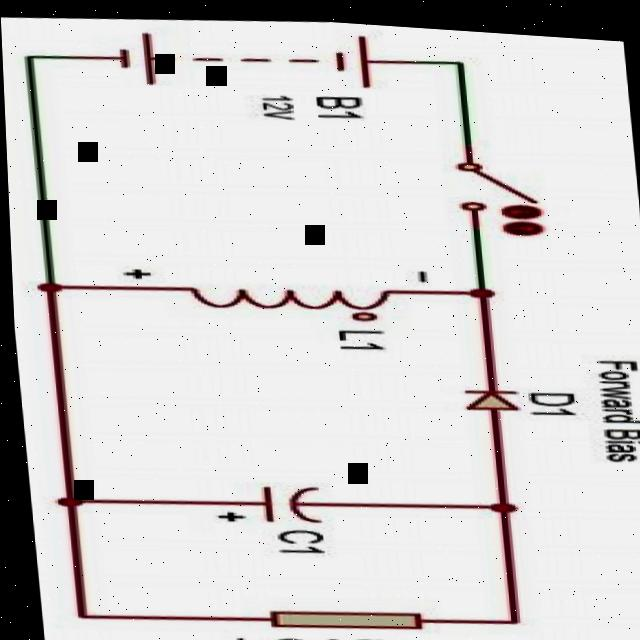capacitor: (237, 470, 327, 534)
diode: (434, 364, 534, 424)
inductor: (153, 255, 405, 327)
node: (474, 482, 524, 514), (24, 271, 84, 297), (452, 272, 511, 298), (41, 488, 106, 511)
resistor: (251, 589, 430, 640)
source: (93, 11, 400, 103)
switch: (404, 137, 559, 228)
